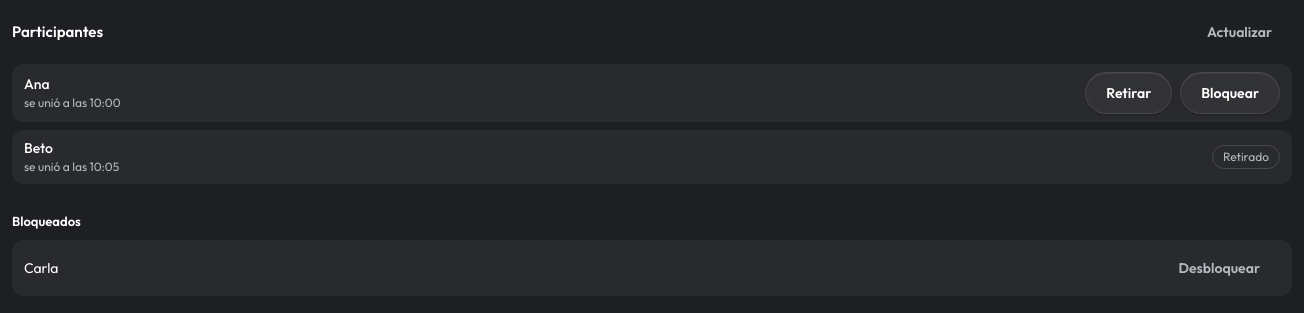
Test: ParticipantsPanel — bloqueos › lista los bloqueados y los desbloquea
The width and height of the screenshot is (1304, 313).
Check: the text "Carla" is shown, box [24,258,58,278]
Click the button with aria-label "Desbloquear a Carla" at [1219, 268], box [1159,248,1280,288]
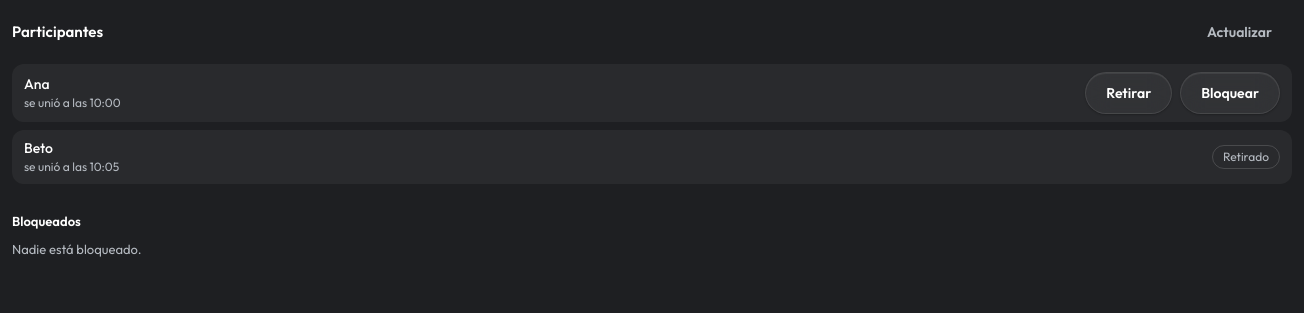
Check: the text "Nadie está bloqueado." is shown, box [12,240,141,256]
